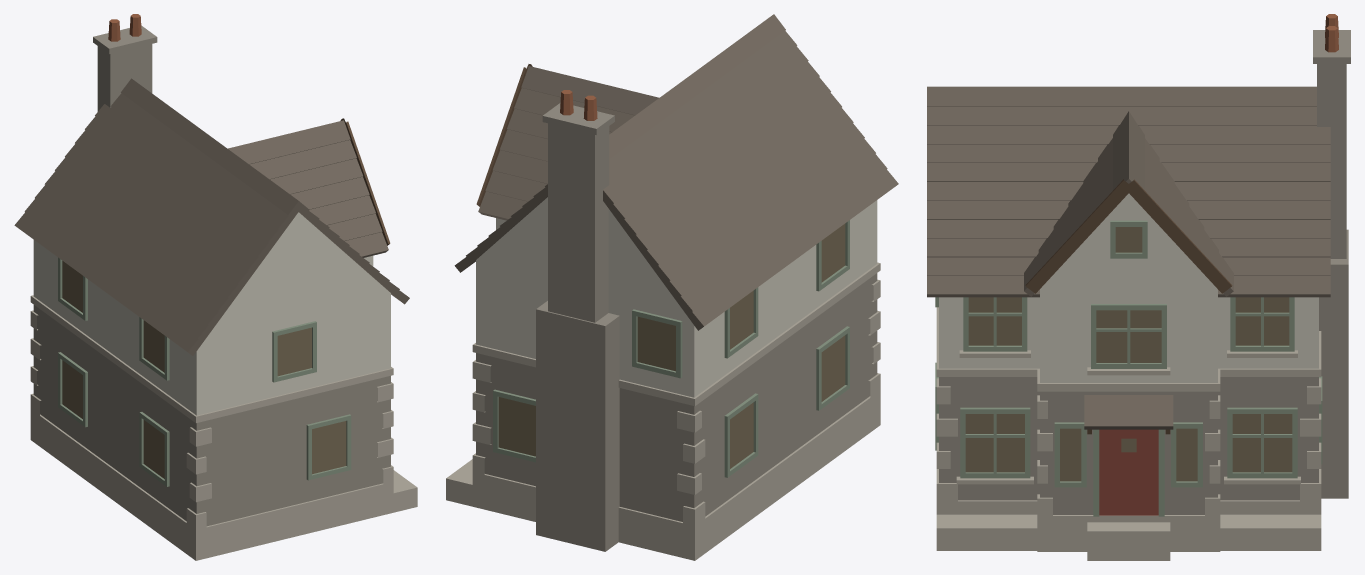
The model's file is house_twostorey_c.glb.
3 renders of one model, left to right at view 1: azimuth 30°, elevation 25°; view 2: azimuth 150°, elevation 25°; view 3: azimuth 270°, elevation 25°, orthographic. The views are drawn at different scales.
Visible parts, largest first — view 1: house_twostorey_c_lod0; view 2: house_twostorey_c_lod0; view 3: house_twostorey_c_lod0.
Part boxes in pixels (x1,y1,x2,y2): house_twostorey_c_lod0: (14, 14, 417, 560); house_twostorey_c_lod0: (446, 14, 898, 560); house_twostorey_c_lod0: (927, 14, 1350, 560).
Size of what is drawn, in the model's own units: 6 by 8.53 by 7.14.
